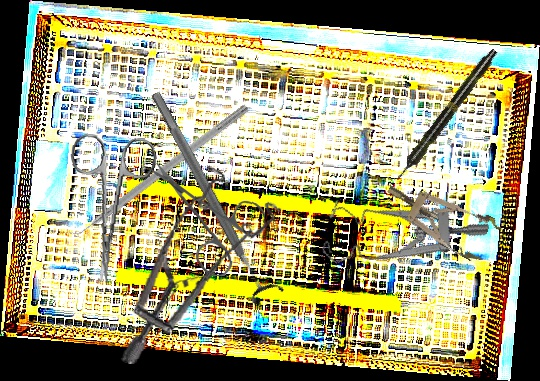Chopper: (56, 93, 251, 248)
Fixation Ring: (139, 84, 286, 308)
Handpiece: (391, 46, 501, 184)
Iris Scissors: (57, 130, 159, 288), (152, 159, 267, 278)
Speculum: (119, 158, 288, 380), (314, 169, 491, 310), (377, 166, 504, 267)
